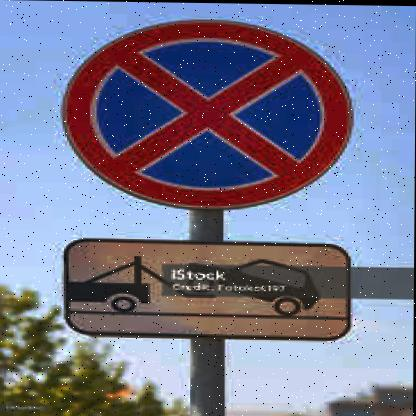No stopping: (62, 15, 348, 215)
